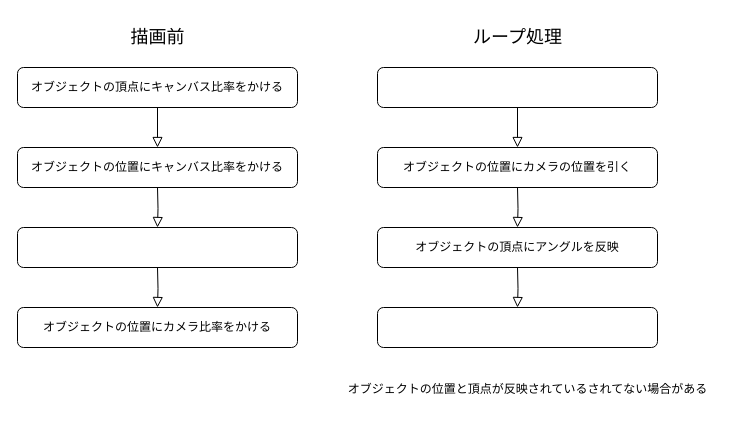
Some shapes in this 735 by 424 pixel diagram are drawn without their labels. The shapes that lost their labels are listed below. From the top down, each one's box as (x1, y1, x2, y2) in pixels, then its label:
(376, 66, 658, 108): カートの位置をカメラに反映
(16, 226, 298, 268): オブジェクトの頂点にカメラ比率をかける
(376, 306, 658, 348): オブジェクトの頂点をキャンバスの真ん中に寄せる
